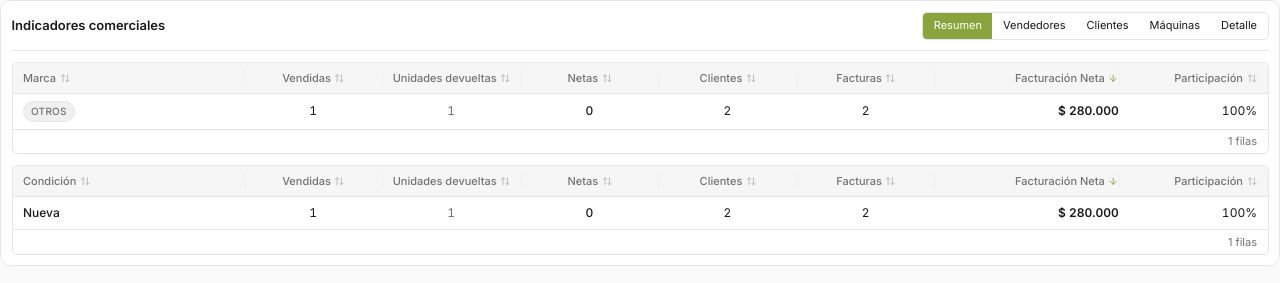
Test: Ventas de Máquinas › keeps custom brands and their Operaciones colors in the invoice list
Click the button "Detalle": coordinates (1239, 26) [1211,12,1268,38]
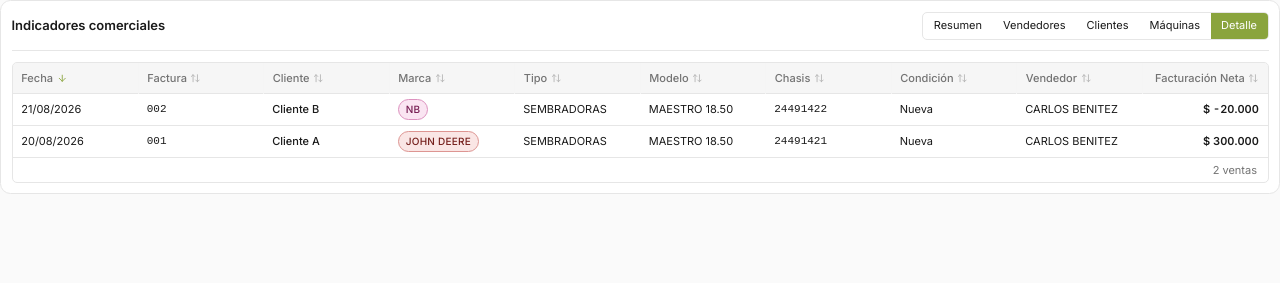
Result: the element titled "JOHN DEERE" is shown at [398,131,479,152]
Result: the element titled "NB" is shown at [398,99,428,120]
Result: the text "OTROS" is gone
